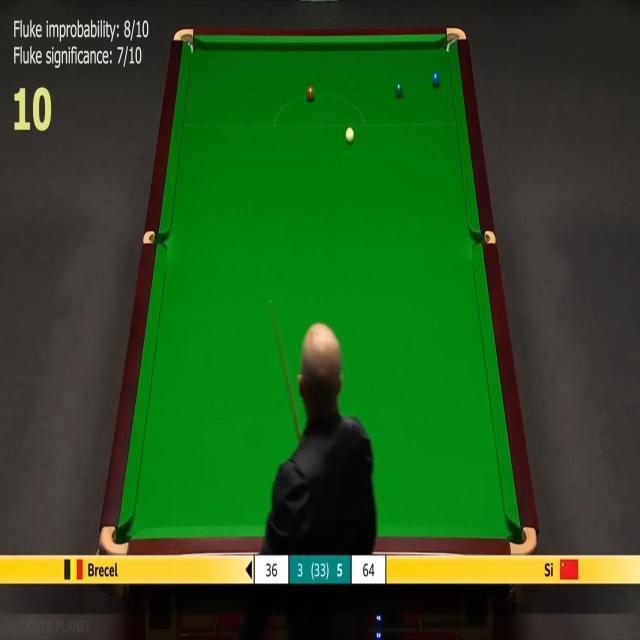Ball: (346, 127, 354, 143), (432, 72, 440, 86), (306, 86, 314, 100), (395, 83, 403, 96)
